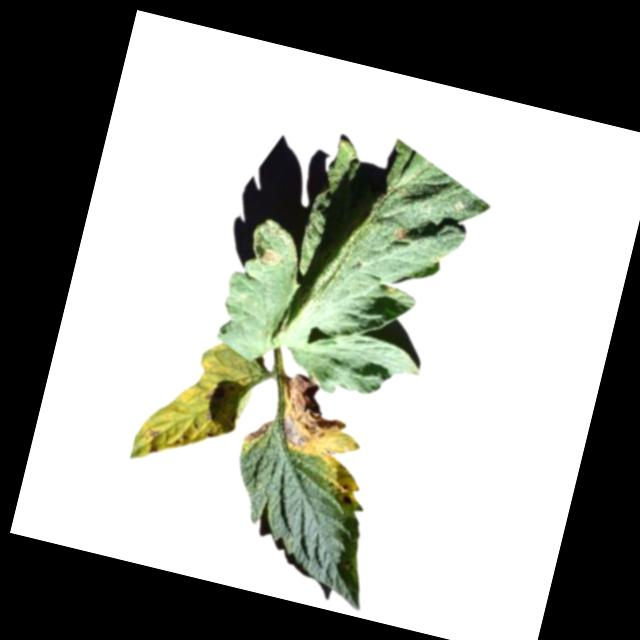Early_blight: (272, 368, 358, 460), (243, 416, 275, 448), (141, 424, 165, 459), (326, 486, 355, 511), (255, 248, 283, 270), (390, 224, 410, 245)
